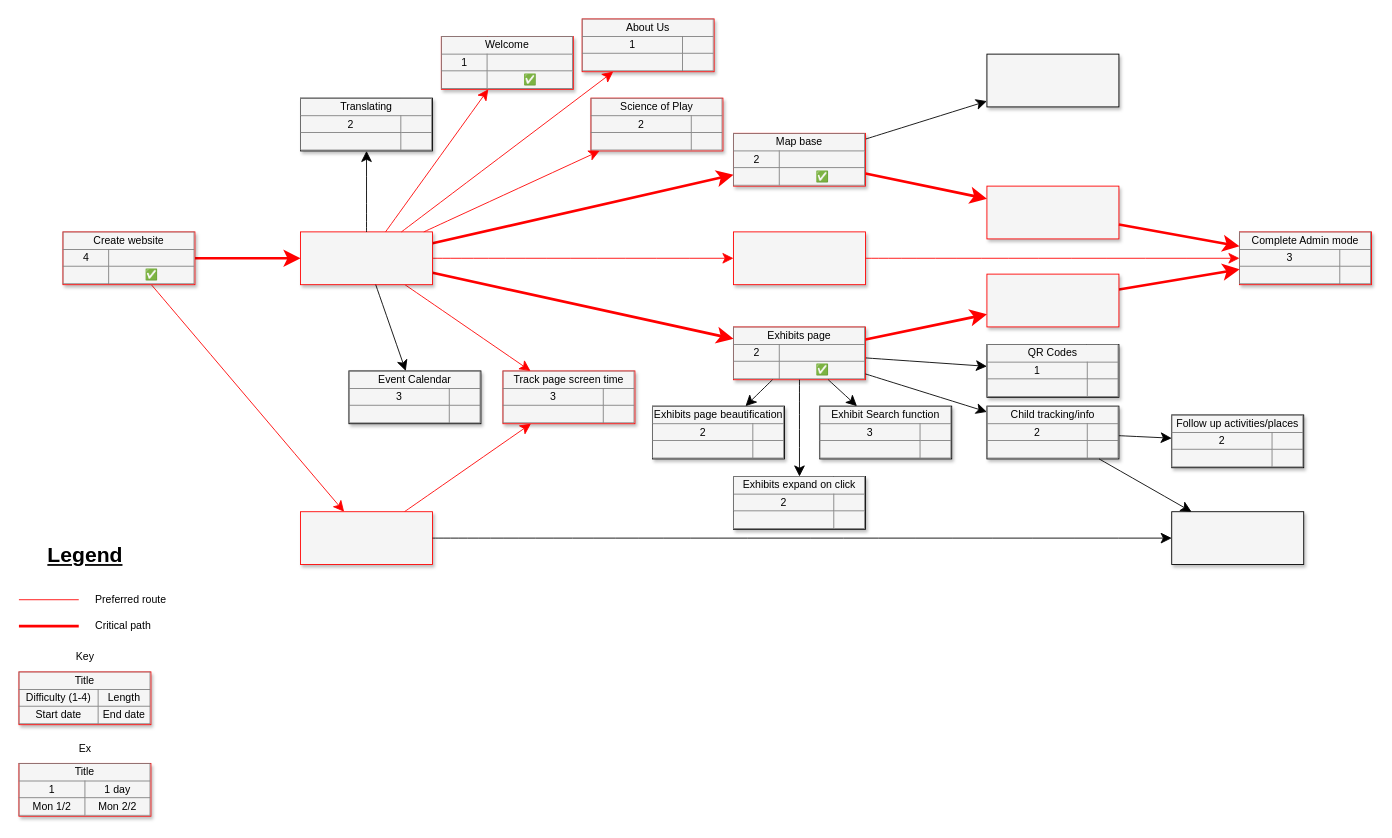
Some shapes in this 1392 by 838 pixel diagram are drawn without their labels. The shapes that lost their labels are listed below. From the top down, each one's centre as x and y in pixels, then its label:
At [1053,81]: "Map beautification 2".
At [1053,213]: "Admin mode (Map) 3".
At [367,259]: "Make layout/skeleton 4 ✅".
At [800,259]: "Admin sign in 2".
At [1053,301]: "Admin mode (Exhibits) 3 3-15".
At [367,539]: "Create Database 3".
At [1238,539]: "Track to database 2".
